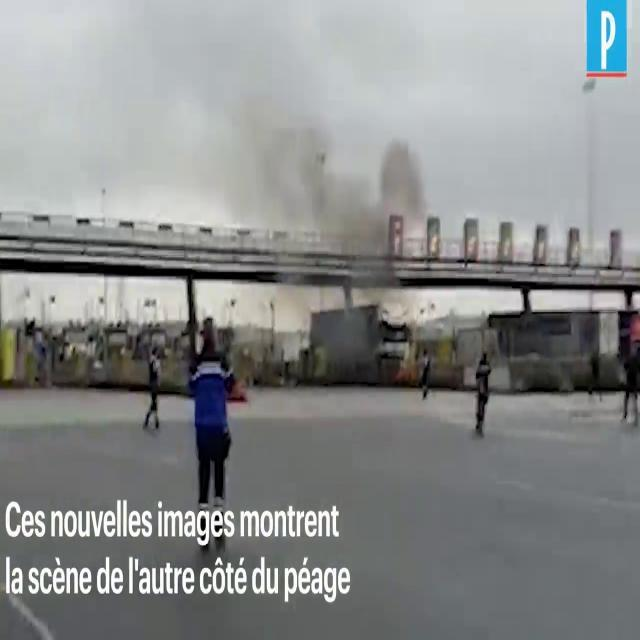Smoke: (200, 25, 440, 256)
